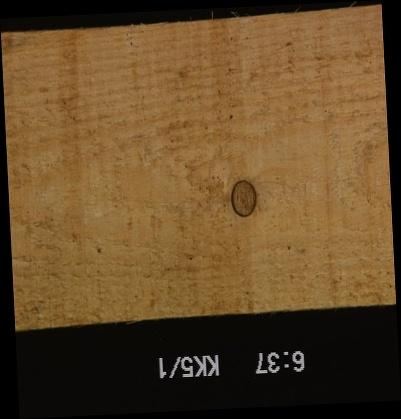dry_knot: (228, 178, 257, 217)
